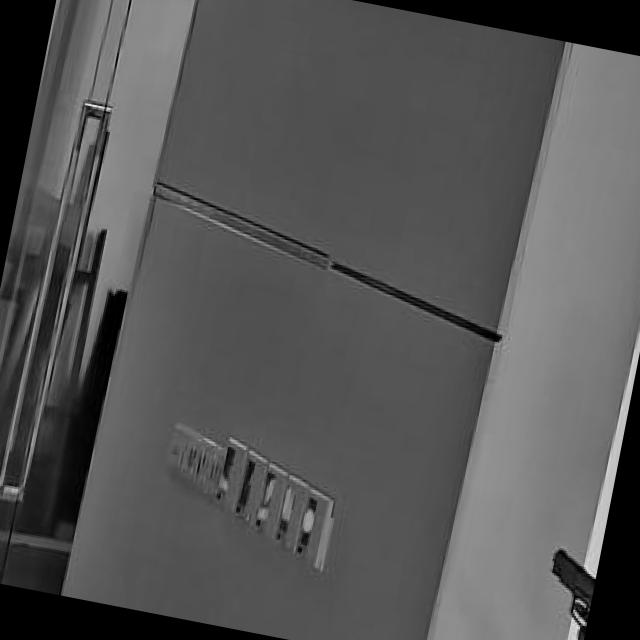Guns: (510, 525, 603, 640)
